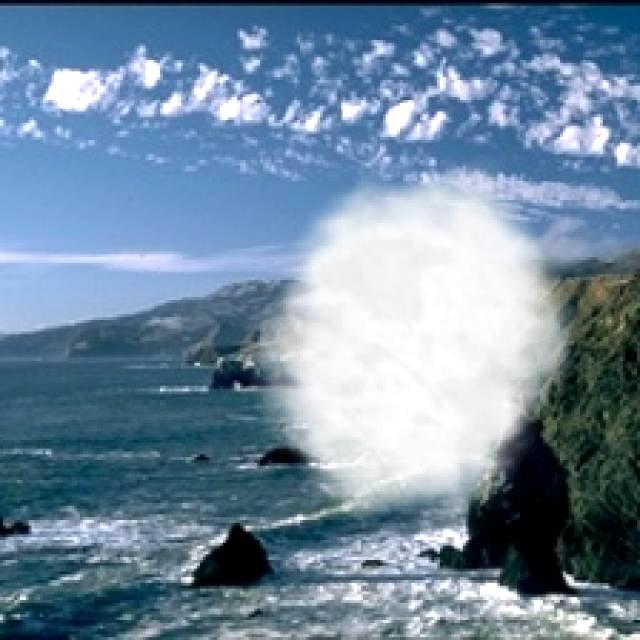Smoke: (240, 154, 583, 529)
